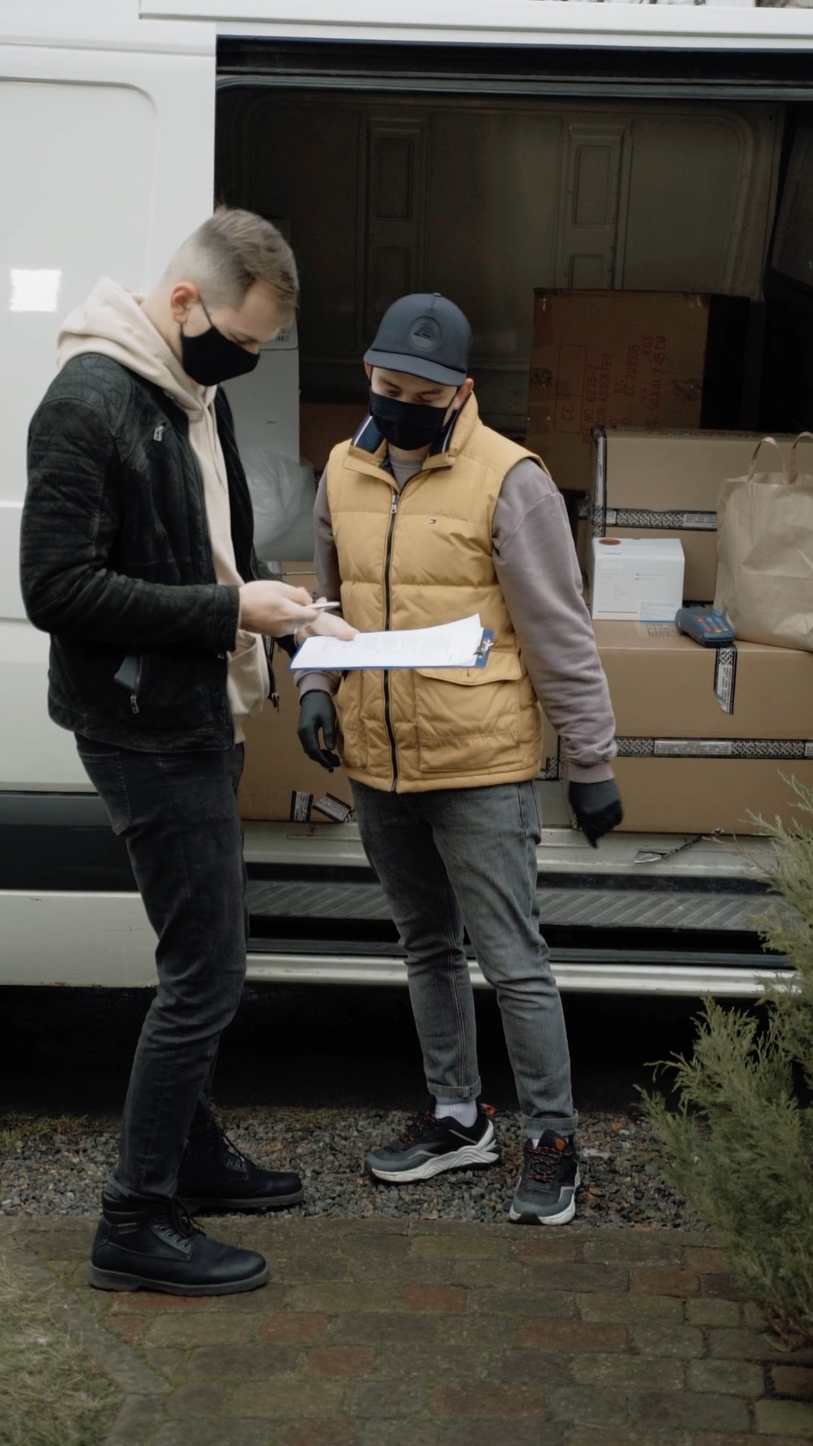No-gloves: (226, 567, 339, 635)
gloves: (530, 762, 690, 844), (279, 676, 366, 773)
